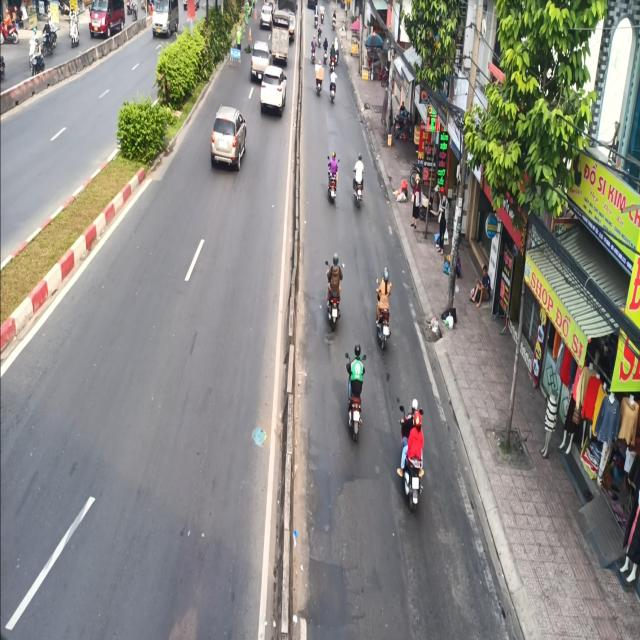car: (210, 97, 250, 166), (258, 65, 291, 122)
motor: (394, 396, 429, 511), (342, 343, 371, 448), (376, 264, 396, 362), (322, 257, 343, 337), (353, 154, 368, 214), (325, 148, 338, 216)
